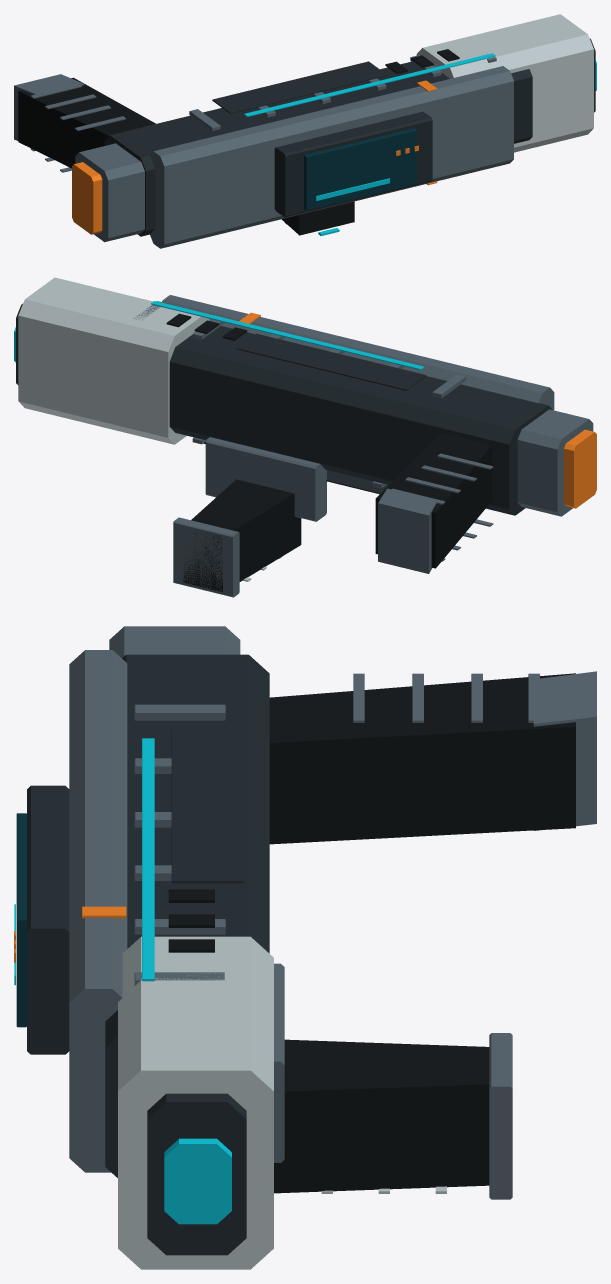
Rendered from SM_AH_FieldSidearm.obj.
The picture shows the model from 3 angles, top to bottom: view 1: azimuth 30°, elevation 25°; view 2: azimuth 150°, elevation 25°; view 3: azimuth 270°, elevation 25°; orthographic projection. The views are drawn at different scales.
Parts seen in each view (by area): view 1: SM_AH_FieldSidearm; view 2: SM_AH_FieldSidearm; view 3: SM_AH_FieldSidearm.
Boxes of the visible parts, box(x1,y1,x2,y2) form: SM_AH_FieldSidearm: box(14, 14, 596, 248); SM_AH_FieldSidearm: box(14, 277, 596, 597); SM_AH_FieldSidearm: box(14, 626, 596, 1269).
Size of the model in its own units: 55.6 by 17.15 by 27.62.
